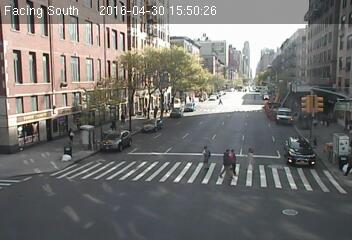neg: (282, 195, 302, 222), (145, 154, 163, 178), (43, 205, 60, 227), (301, 146, 316, 166), (262, 61, 277, 80), (15, 140, 29, 159), (245, 115, 259, 134), (238, 81, 252, 100), (328, 163, 342, 181), (323, 75, 336, 93), (29, 168, 41, 186), (169, 102, 182, 118), (87, 173, 99, 189), (311, 117, 323, 133), (279, 88, 287, 98), (219, 61, 226, 71)
pos: (214, 146, 238, 177), (196, 143, 216, 169), (225, 149, 244, 174), (66, 126, 79, 144), (118, 112, 128, 127), (109, 119, 119, 132), (140, 106, 149, 117), (217, 96, 223, 105)
